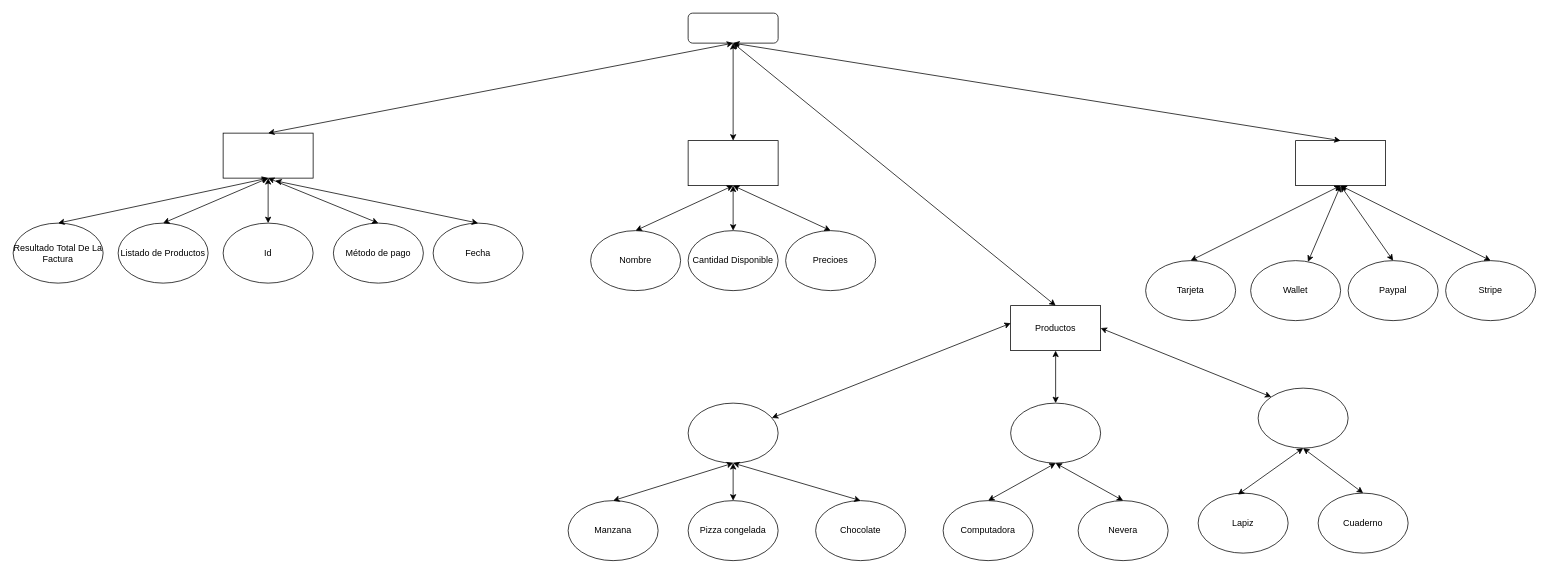
The diagram is 1549 pixels wide and 574 high, and some of its shapes have lost their labels. The centre of each missing label's shape, as x and y in pixels:
Comida: [732,432]
Electrodomesticos: [1055,432]
Especificaciones del producto: [732,163]
Homework: [732,27]
Modos de pago: [1340,163]
Orden: [267,155]
Productos escolares: [1302,417]
